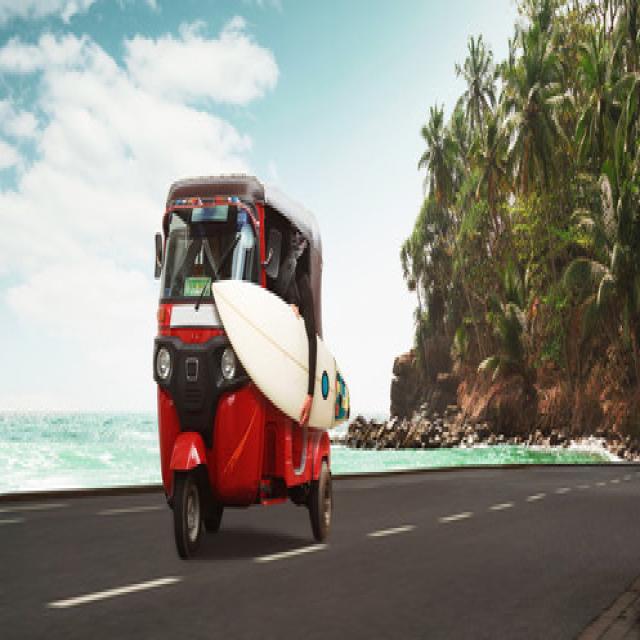three wheeler: (153, 176, 348, 555)
